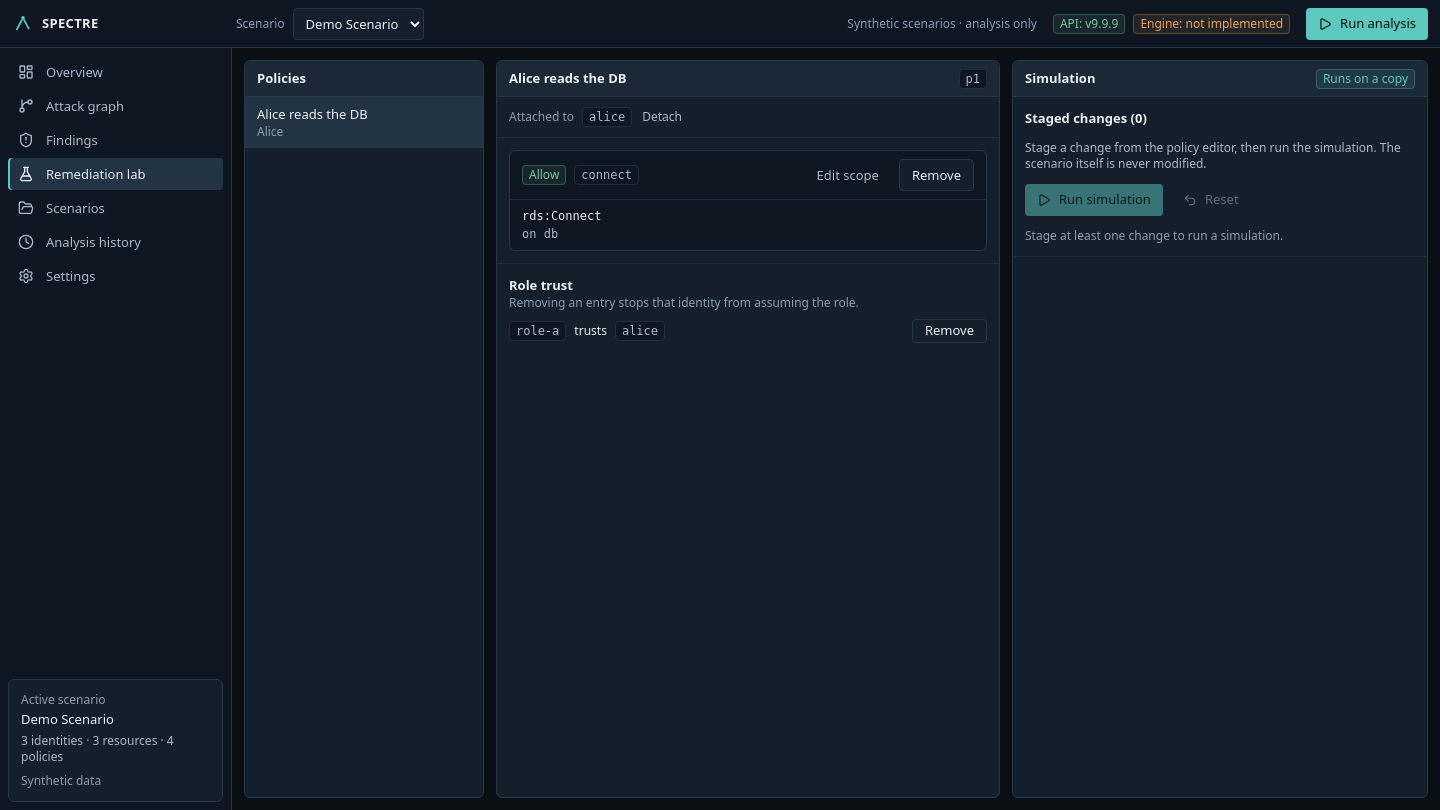
Test: RemediationPage › stages trust removal and policy detachment, and can unstage and reset
The width and height of the screenshot is (1440, 810).
Click the button with aria-label "Remove alice from the trust of role-a".
click(949, 331)  # box x1=912 y1=319 x2=987 y2=343
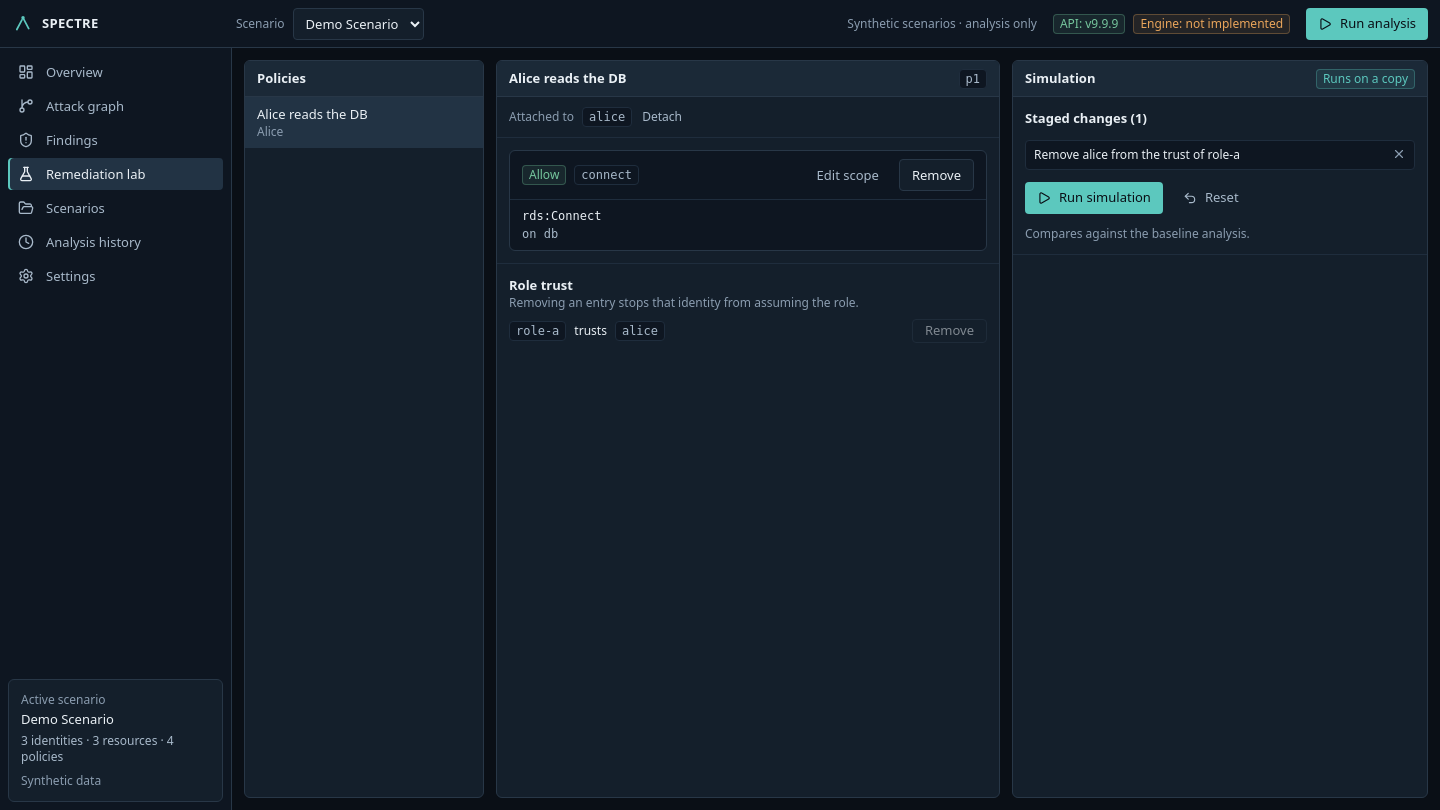
Click the button with aria-label "Detach p1 from alice".
click(662, 117)  # box x1=636 y1=105 x2=688 y2=129
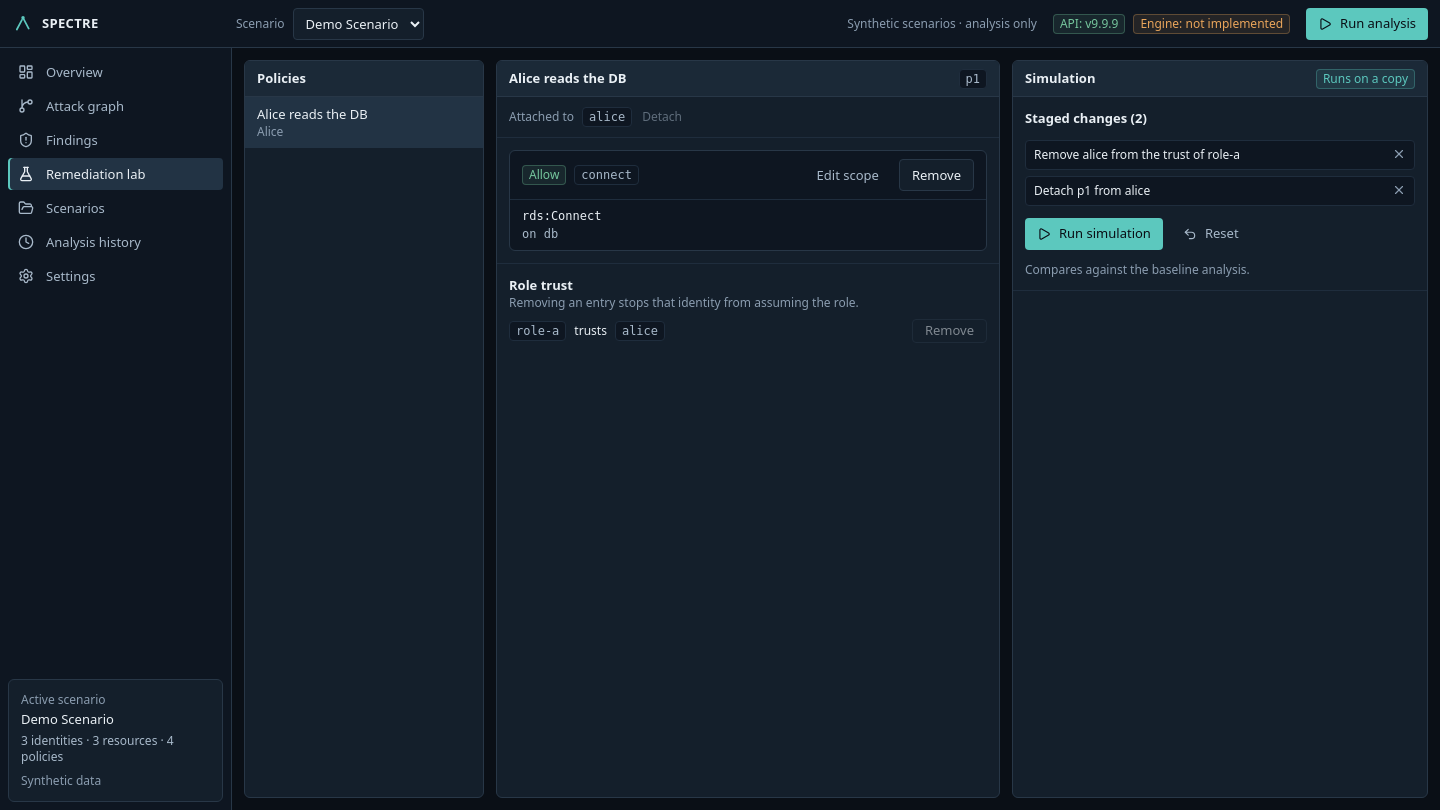
Expected: the heading "Staged changes (2)" is shown, x1=1025 y1=109 x2=1147 y2=127
Click the button named "Unstage: Detach p1 from alice".
click(1399, 190)  # box x1=1392 y1=183 x2=1406 y2=197
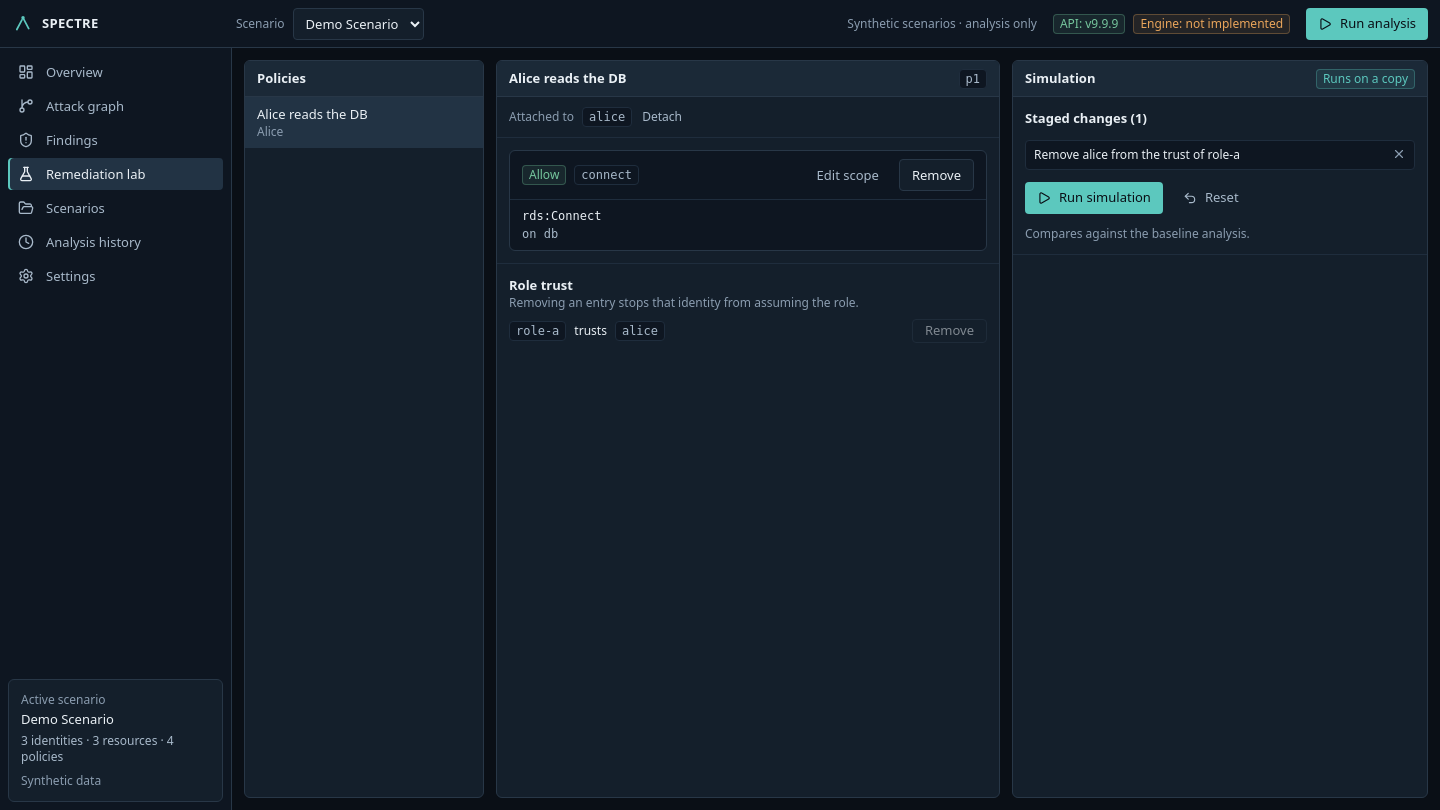
Expected: the heading "Staged changes (1)" is shown, x1=1025 y1=109 x2=1147 y2=127
Click the button "Reset".
click(1211, 198)  # box x1=1171 y1=182 x2=1251 y2=214
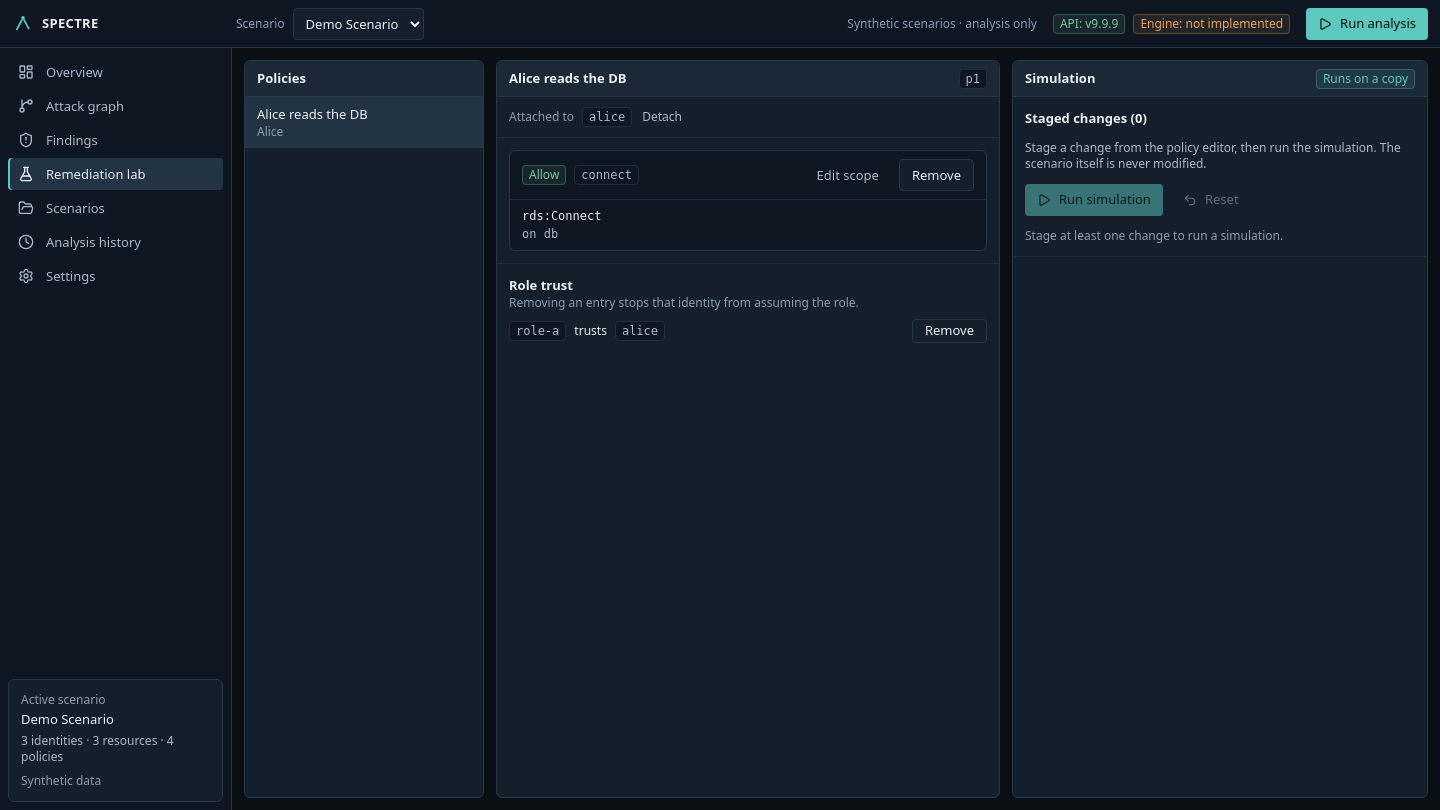
Expected: the heading "Staged changes (0)" is shown, x1=1025 y1=109 x2=1147 y2=127
